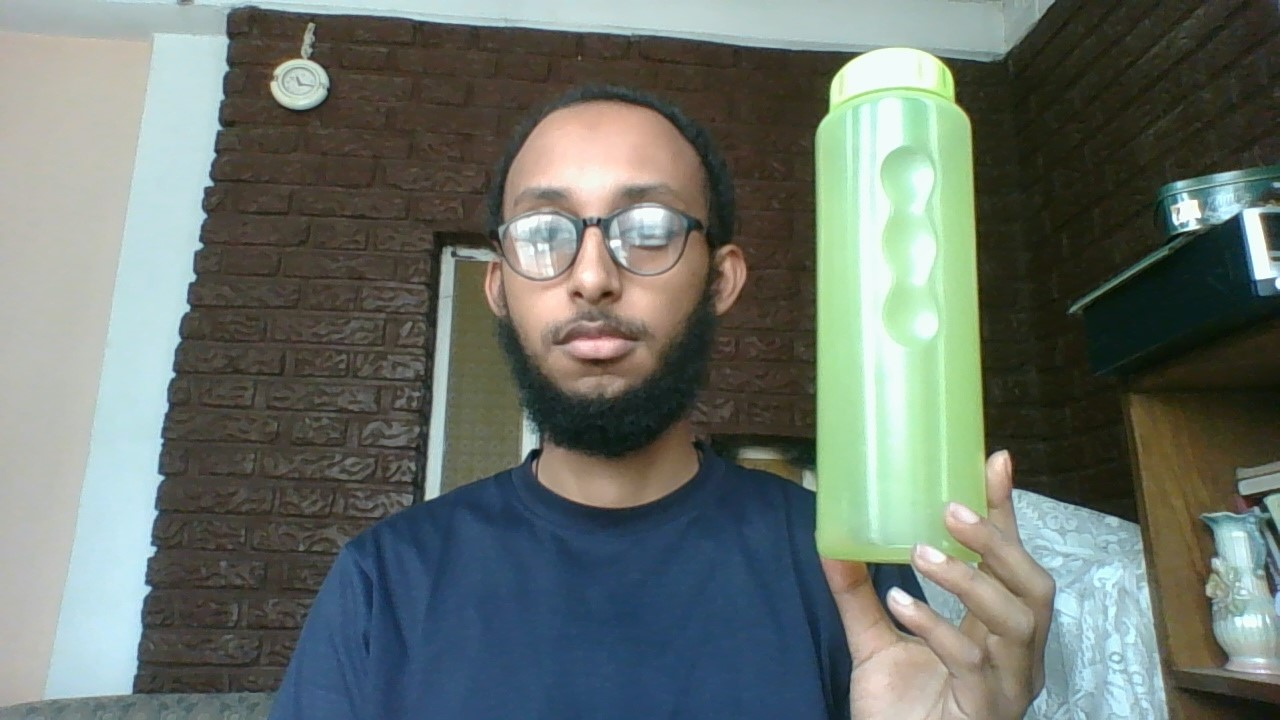Water_bottle: (805, 38, 990, 570)
